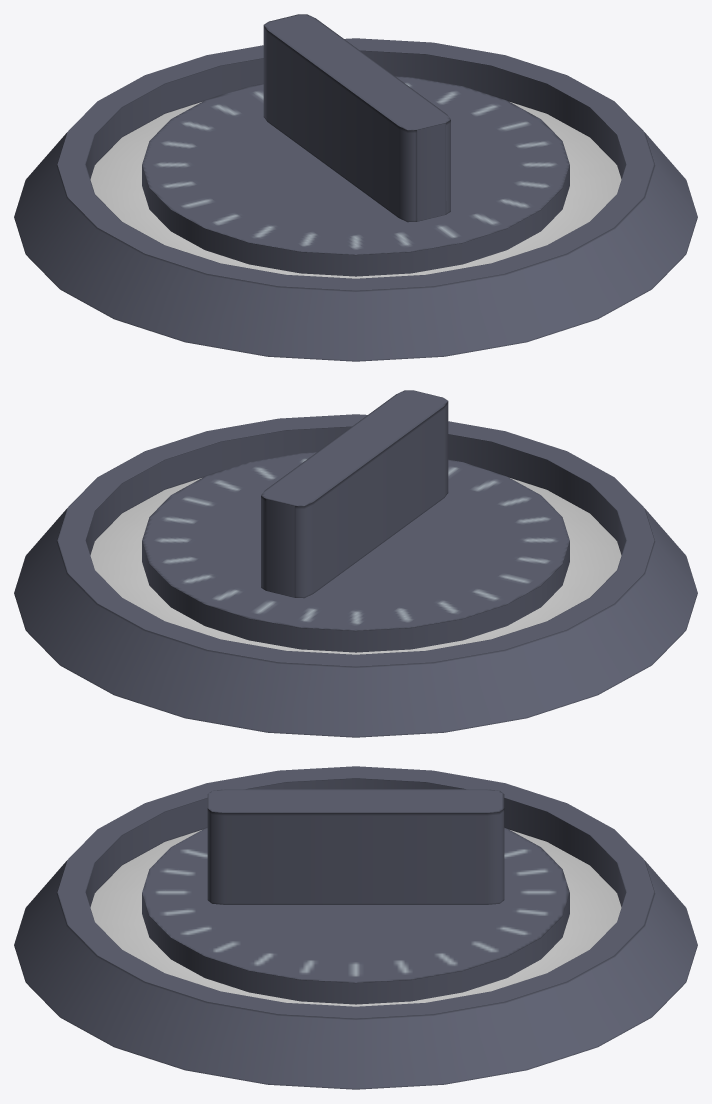
File: Button_Big_Circular_White.FBX
The picture shows the model from 3 angles, top to bottom: view 1: azimuth 30°, elevation 25°; view 2: azimuth 150°, elevation 25°; view 3: azimuth 270°, elevation 25°; orthographic projection.
Parts seen in each view (by area): view 1: Button_Big_Circular_White, Turn_Me_On; view 2: Button_Big_Circular_White, Turn_Me_On; view 3: Button_Big_Circular_White, Turn_Me_On.
Part boxes in pixels (bbox=[...]): Button_Big_Circular_White: bbox=[14, 38, 697, 361]; Turn_Me_On: bbox=[142, 14, 569, 276]; Button_Big_Circular_White: bbox=[14, 414, 697, 737]; Turn_Me_On: bbox=[142, 390, 569, 652]; Button_Big_Circular_White: bbox=[14, 766, 697, 1089]; Turn_Me_On: bbox=[142, 789, 569, 1004].
Bounding box in the file's own units: 0.2964 × 0.0691 × 0.2964.
Materials: 1 (1 with a texture image).
